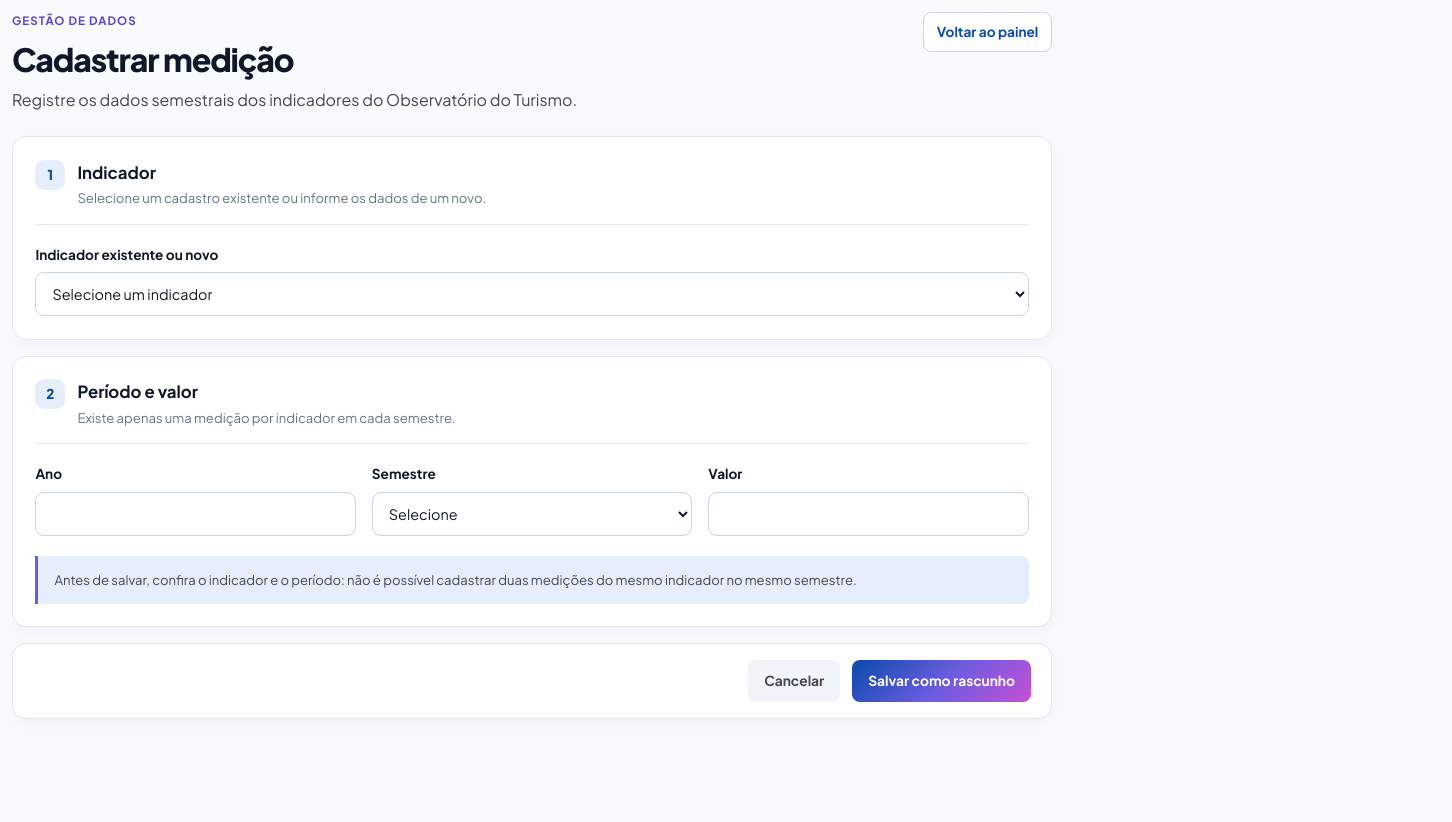
Scenario: AdminMedicaoFormPage › envia a mensagem 409 e mantém os campos preenchidos
Check: the heading "Cadastrar medição" is shown, box [12,39,294,79]
Select "Número de leitos (Hospedagem)" in the dropdown labelled "Indicador" at x=532, y=294, box [35,272,1029,316]
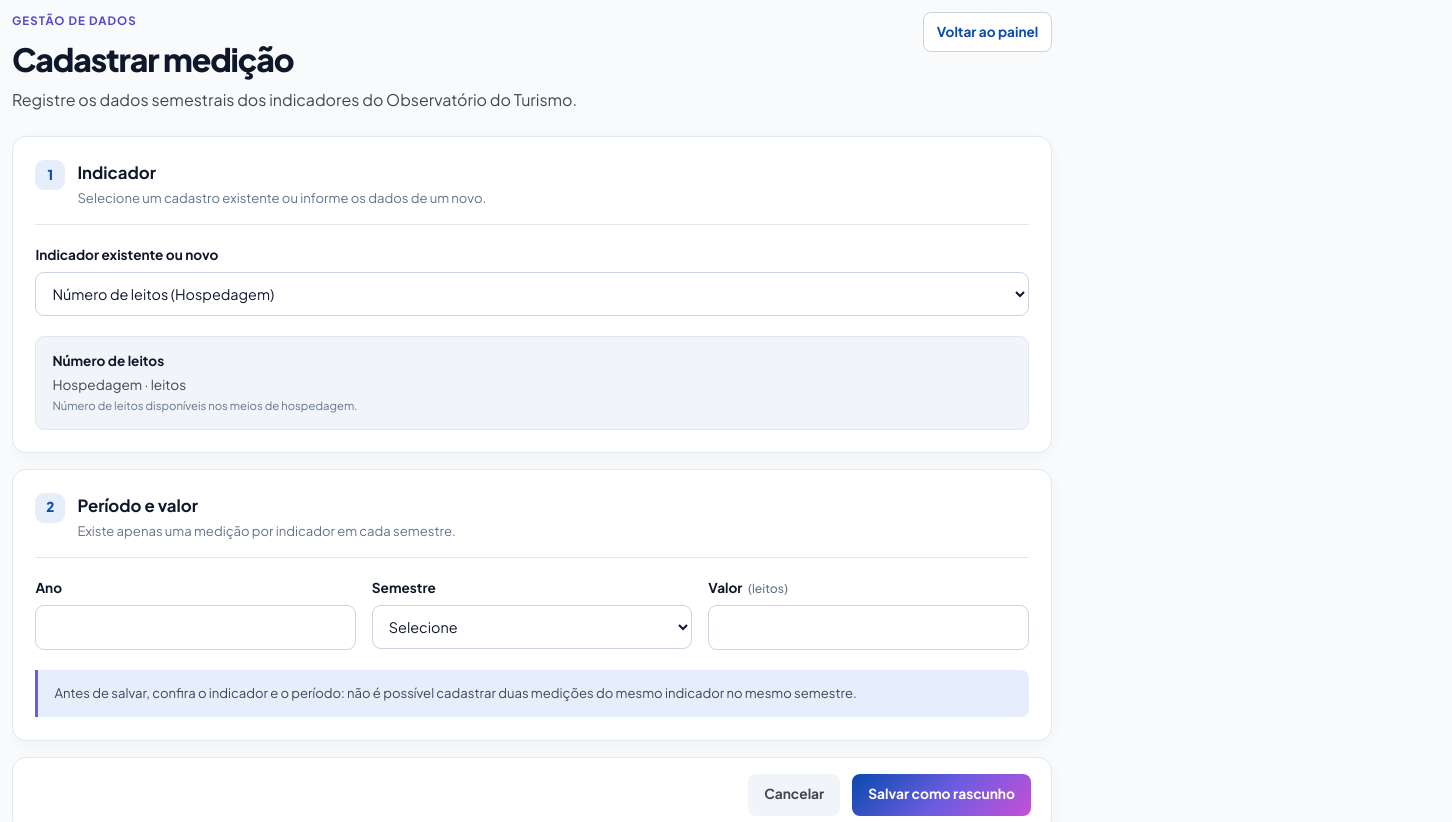
Type "2025" into the number field labelled "Ano" at x=196, y=627, box [35,605,356,650]
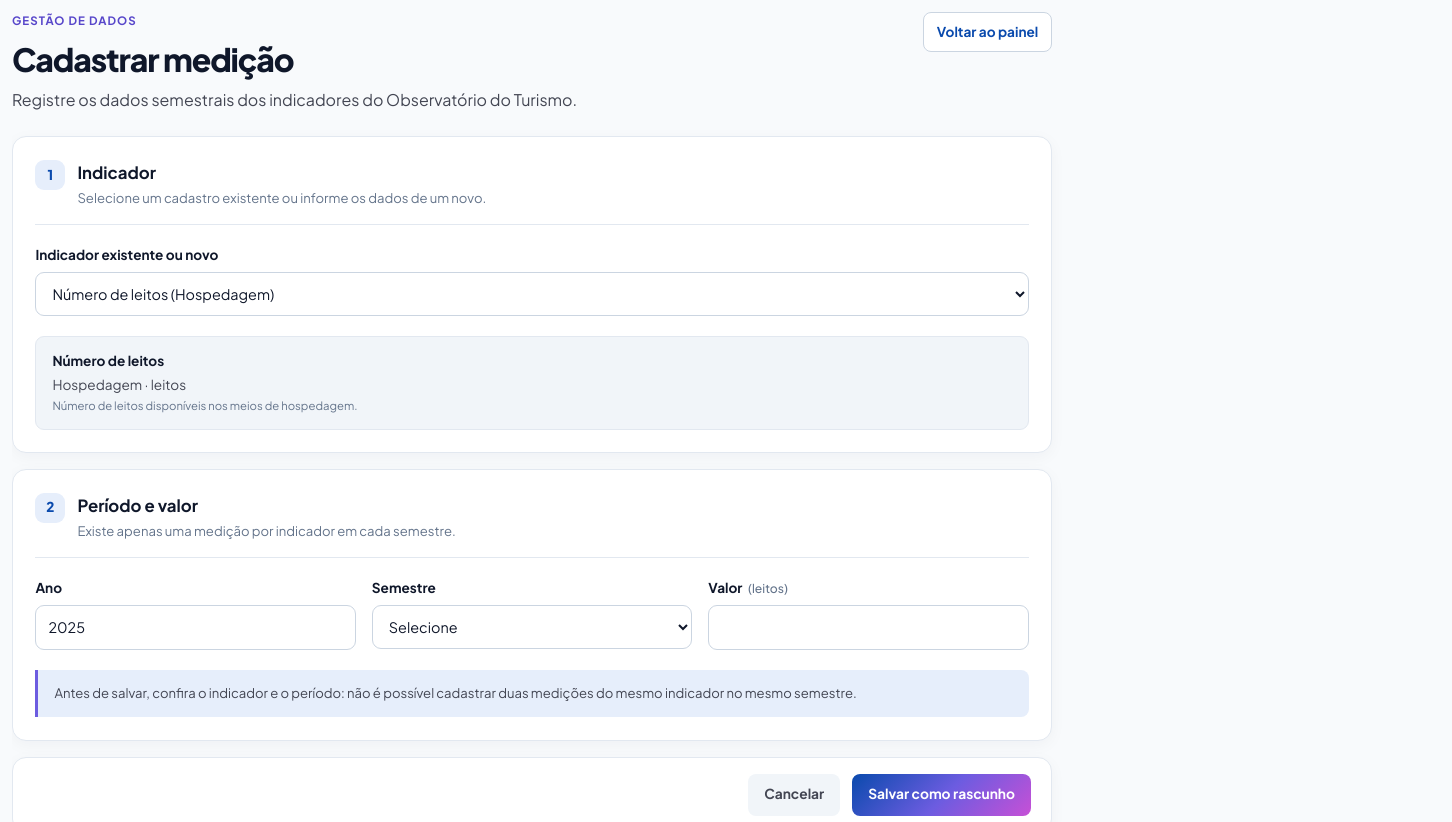
Select "2º semestre" in the dropdown labelled "Semestre" at x=532, y=627, box [372,605,692,649]
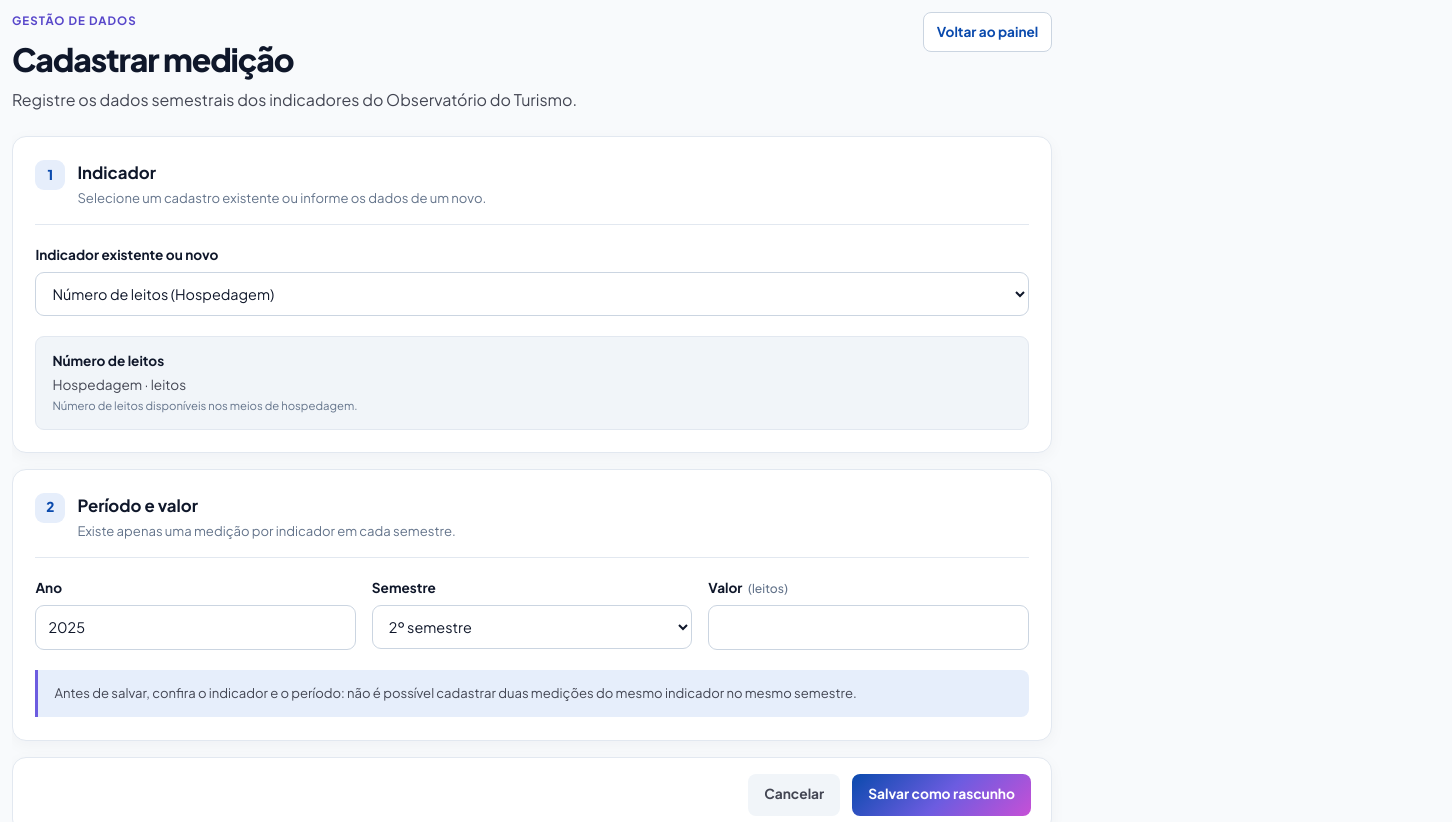
Type "350" into the number field labelled "Valor" at x=868, y=627, box [708,605,1029,650]
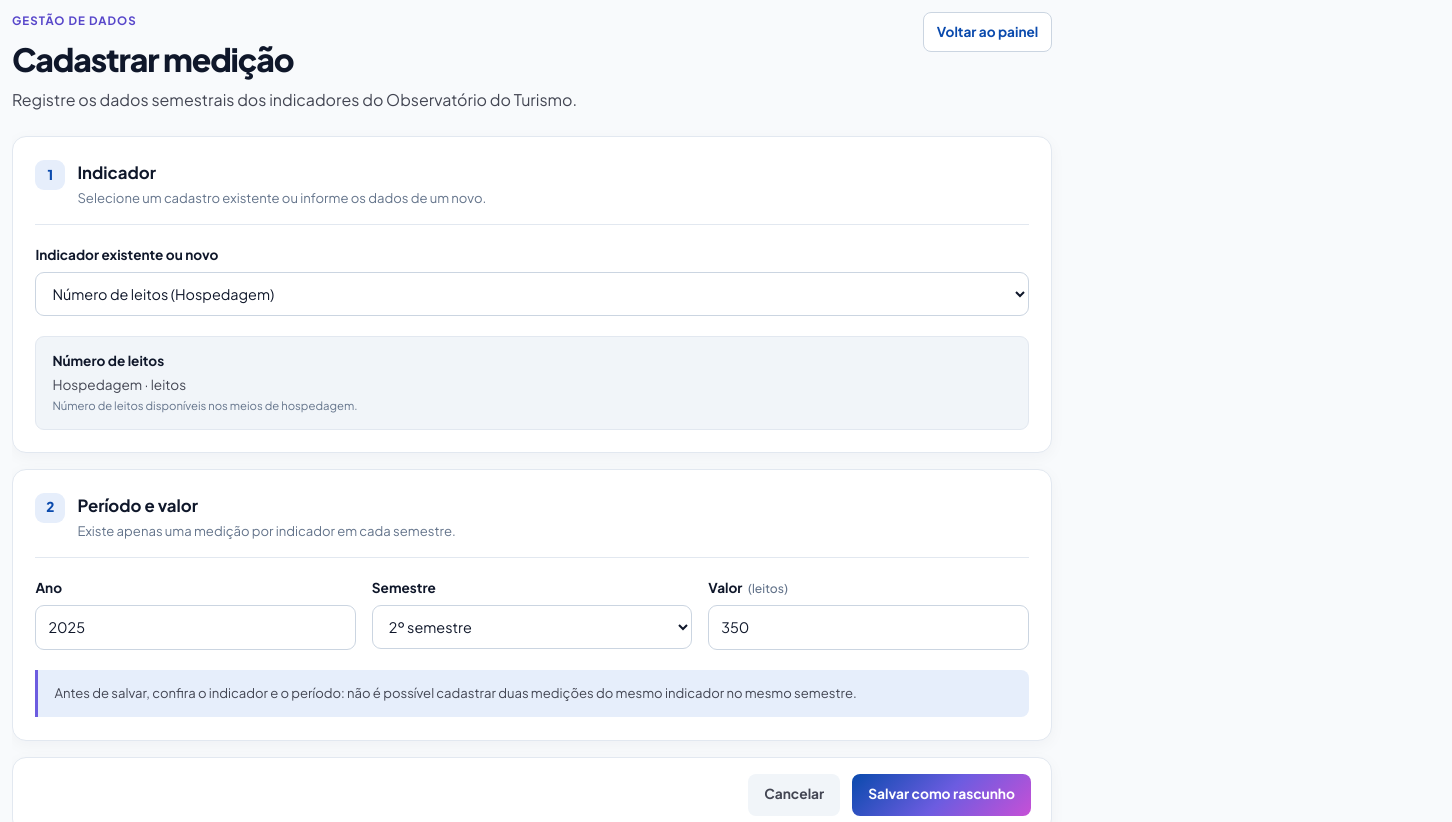
Click the button "Salvar como rascunho" at x=942, y=794, box [852,774,1031,816]
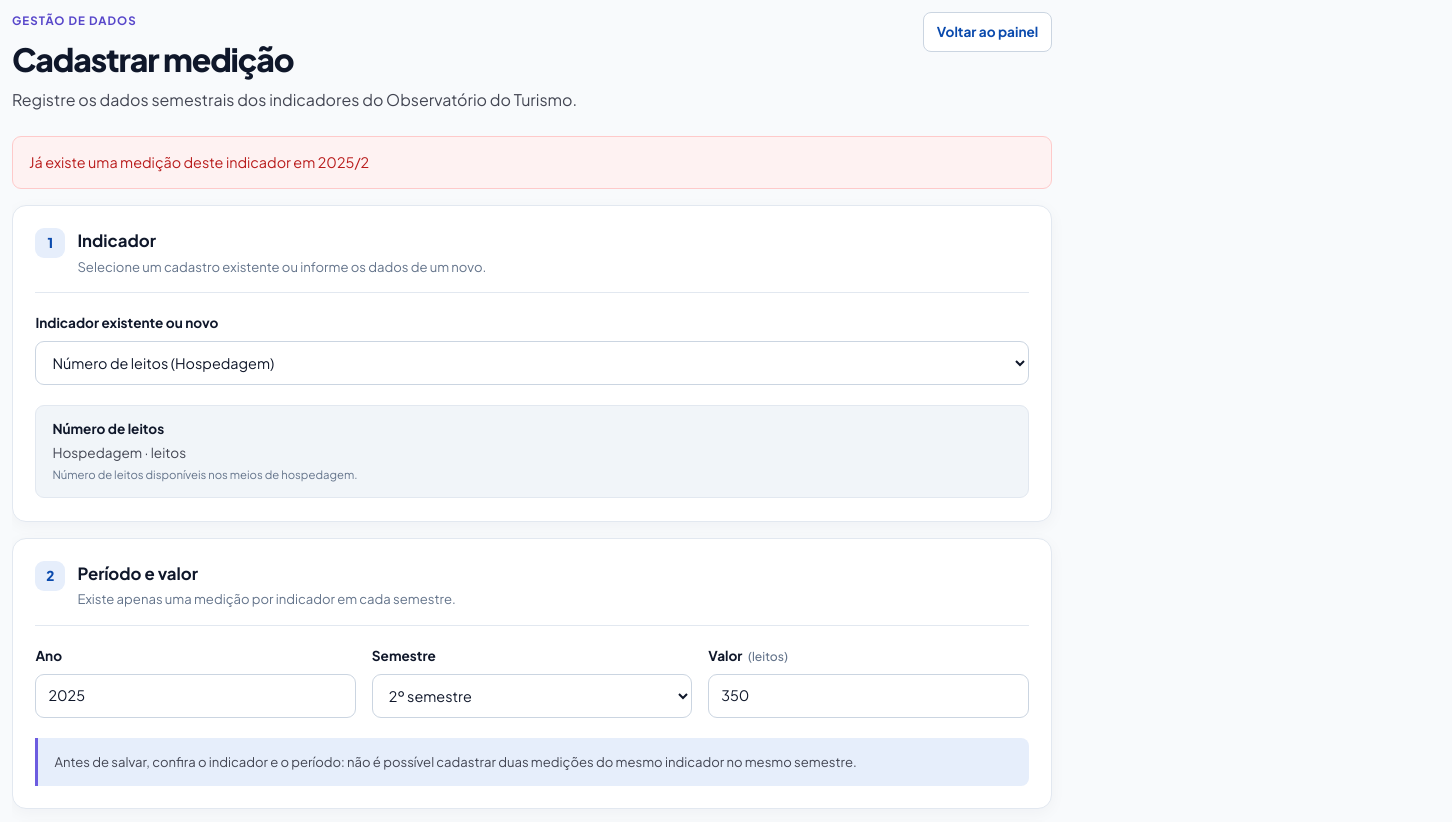
Check: the message reads "Já existe uma medição deste indicador em 2025/2", box [29,153,369,171]
